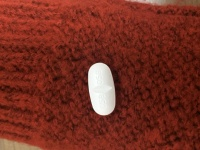Centik Buskopan: (86, 61, 116, 117)
